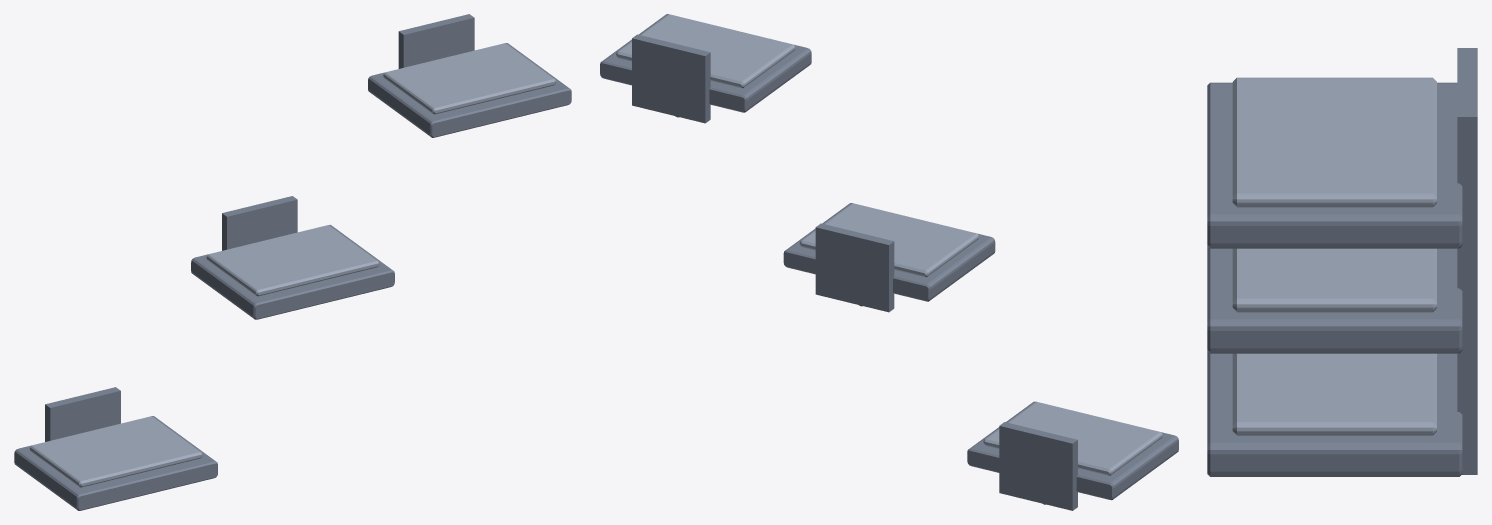
File: wall-cat-shelves-lite.glb
The picture shows the model from 3 angles, left to right: view 1: azimuth 30°, elevation 25°; view 2: azimuth 150°, elevation 25°; view 3: azimuth 270°, elevation 25°; orthographic projection. The views are drawn at different scales.
Visible parts, largest first — view 1: body, soft; view 2: body, soft; view 3: soft, body.
Boxes of the visible parts, left/top/right/bottom form: body: left=14, top=14, right=571, bottom=510; soft: left=30, top=43, right=556, bottom=487; body: left=600, top=14, right=1178, bottom=510; soft: left=616, top=14, right=1162, bottom=475; soft: left=1232, top=77, right=1436, bottom=435; body: left=1207, top=48, right=1477, bottom=476.
Bounding box in the file's own units: 1.12 × 0.7788 × 0.265.
